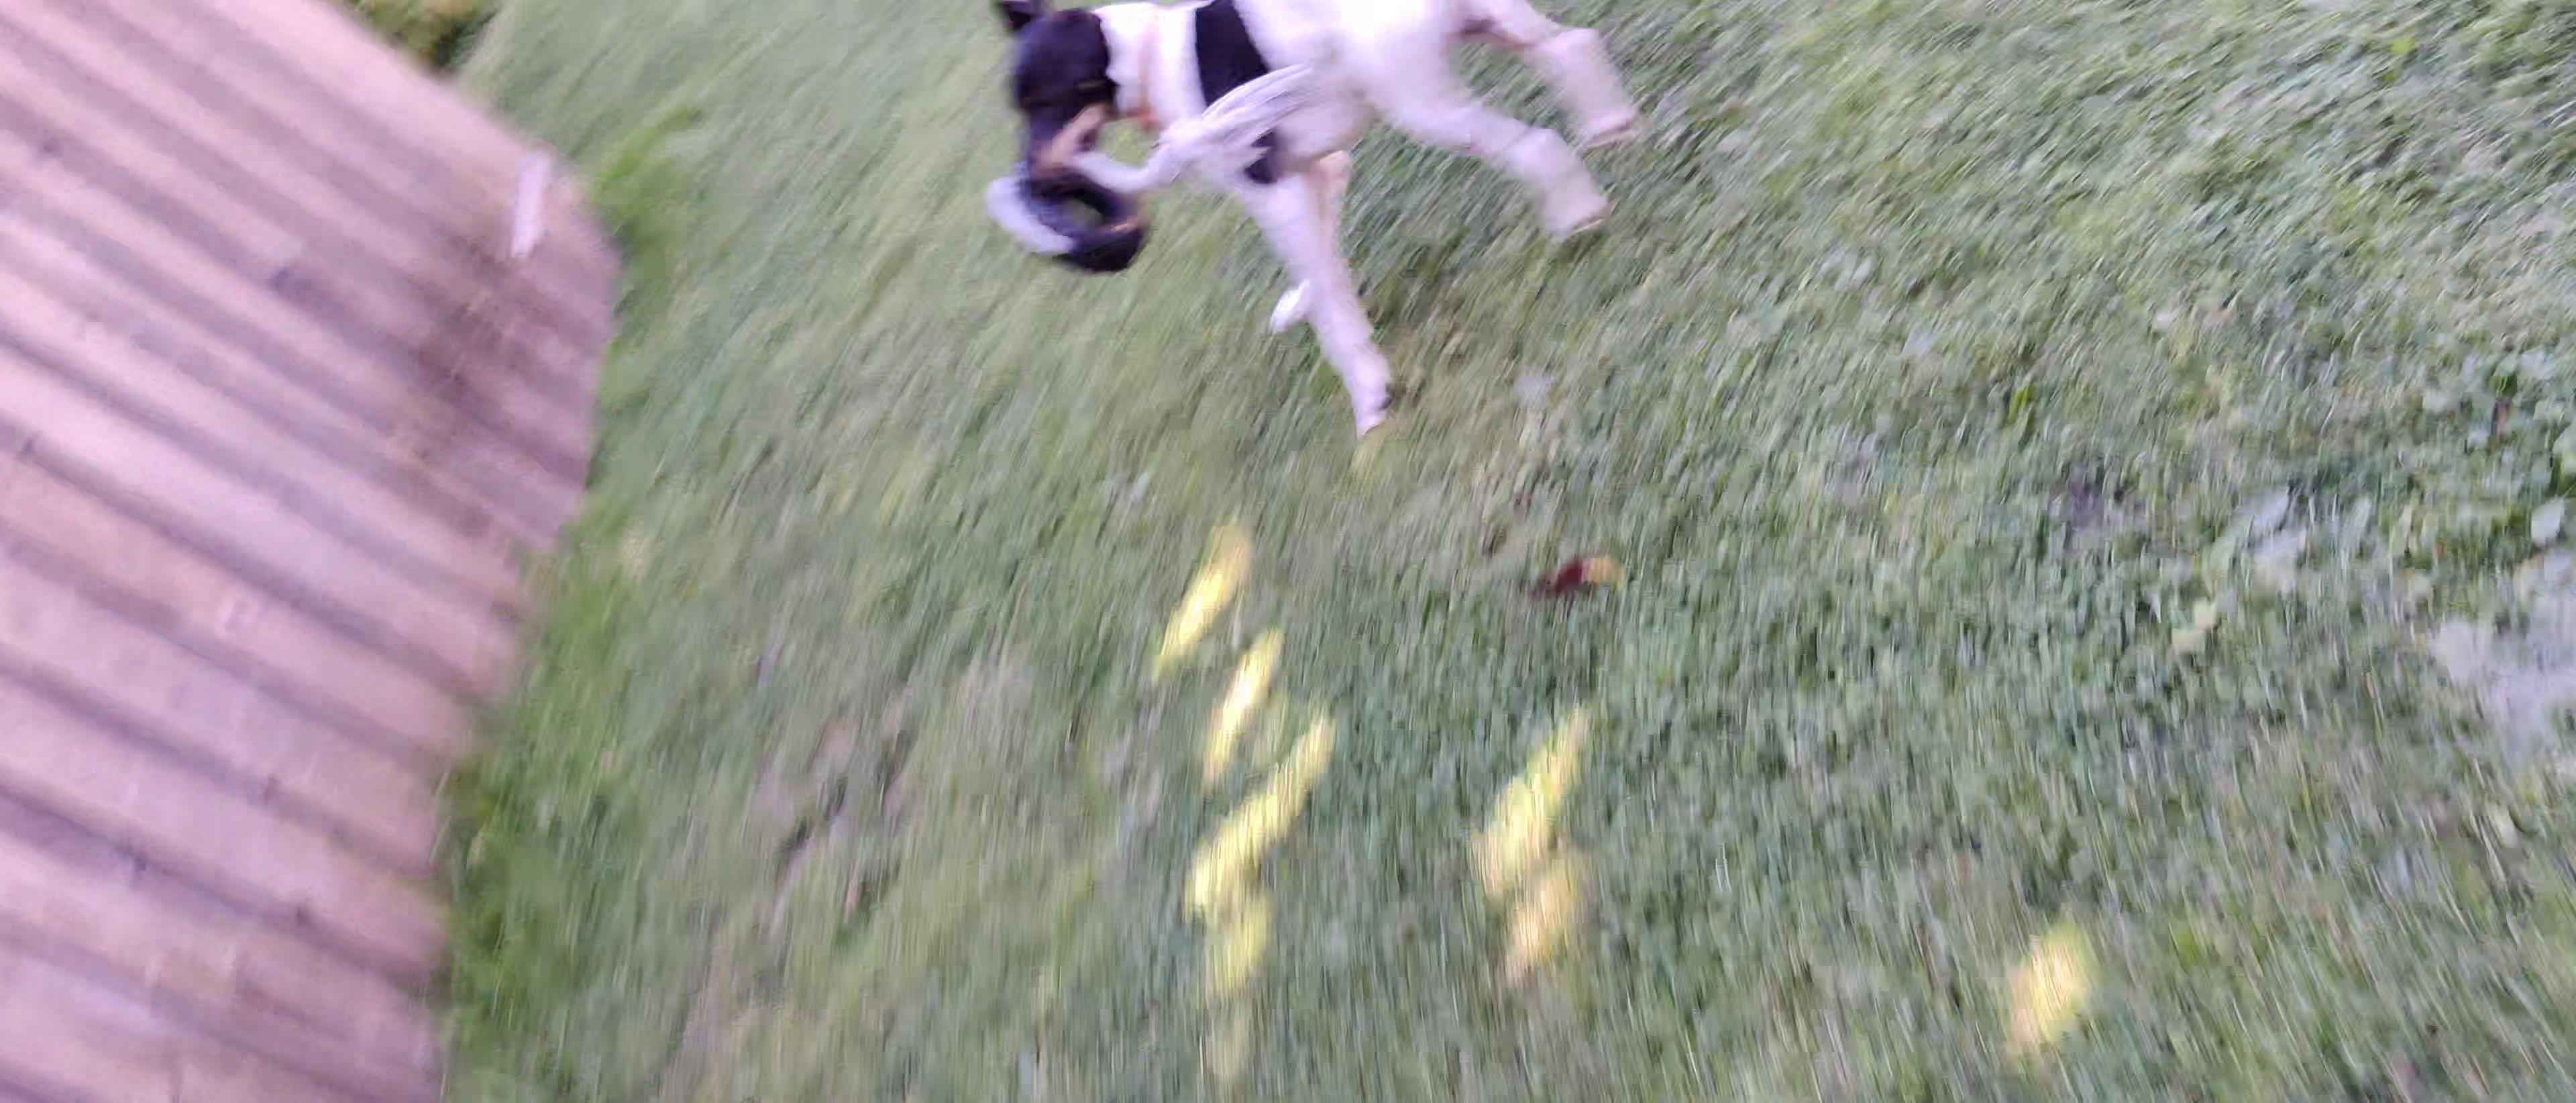Dog: (973, 0, 1646, 436)
